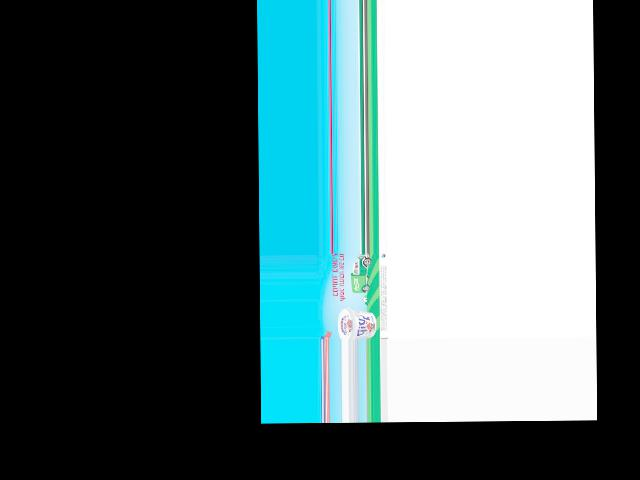cotage: (337, 307, 377, 339)
